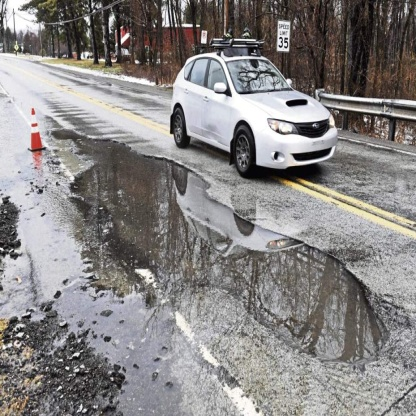pothole: (171, 219, 392, 376)
